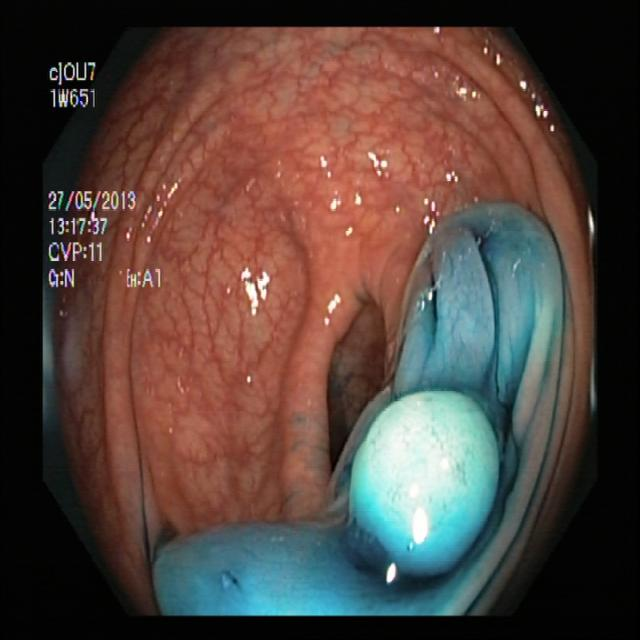dyed-lifted-polyps: (337, 378, 512, 591)
